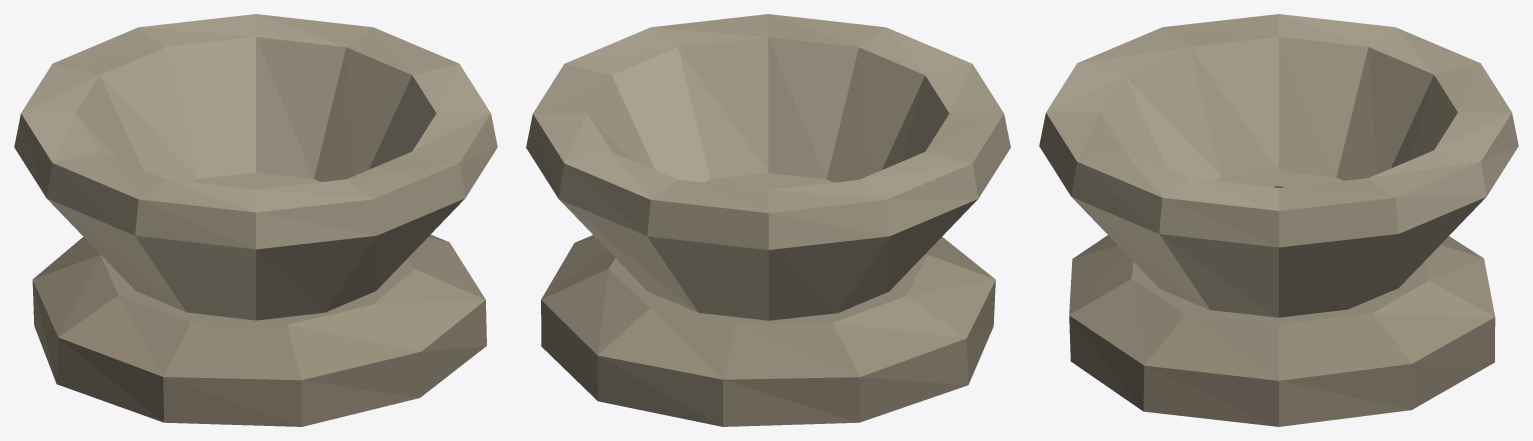
The model's file is dry-offering-basin.glb.
3 renders of one model, left to right at view 1: azimuth 30°, elevation 25°; view 2: azimuth 150°, elevation 25°; view 3: azimuth 270°, elevation 25°, orthographic.
Parts seen in each view (by area): view 1: dry-offering-basin; view 2: dry-offering-basin; view 3: dry-offering-basin.
Part boxes in pixels (x1,y1,x2,y2): dry-offering-basin: (14, 14, 497, 426); dry-offering-basin: (526, 14, 1010, 426); dry-offering-basin: (1039, 14, 1518, 426).
Bounding box in the file's own units: 1.42 × 0.72 × 1.42.
